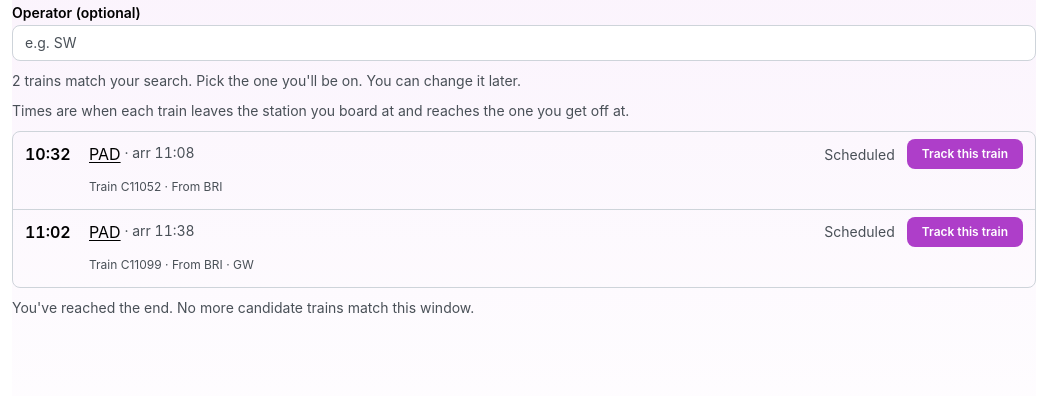
it: JourneyLegCandidates › shows the API's own sentence when the pick is refused because the train can't serve the leg
What coordinates should you click on to do the following:
click the button "Track this train" in the row of "11:08"
I would click on:
 (965, 154)
Its box is x1=907 y1=139 x2=1023 y2=169.
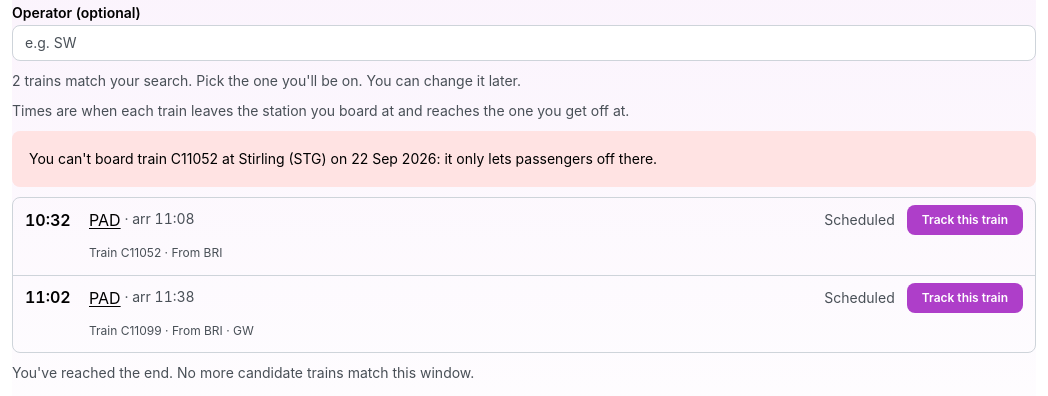
Now the 1st message shows "You can't board train C11052 at Stirling (STG) on 22 Sep 2026: it only lets passengers off there.", box x1=29 y1=150 x2=657 y2=167
